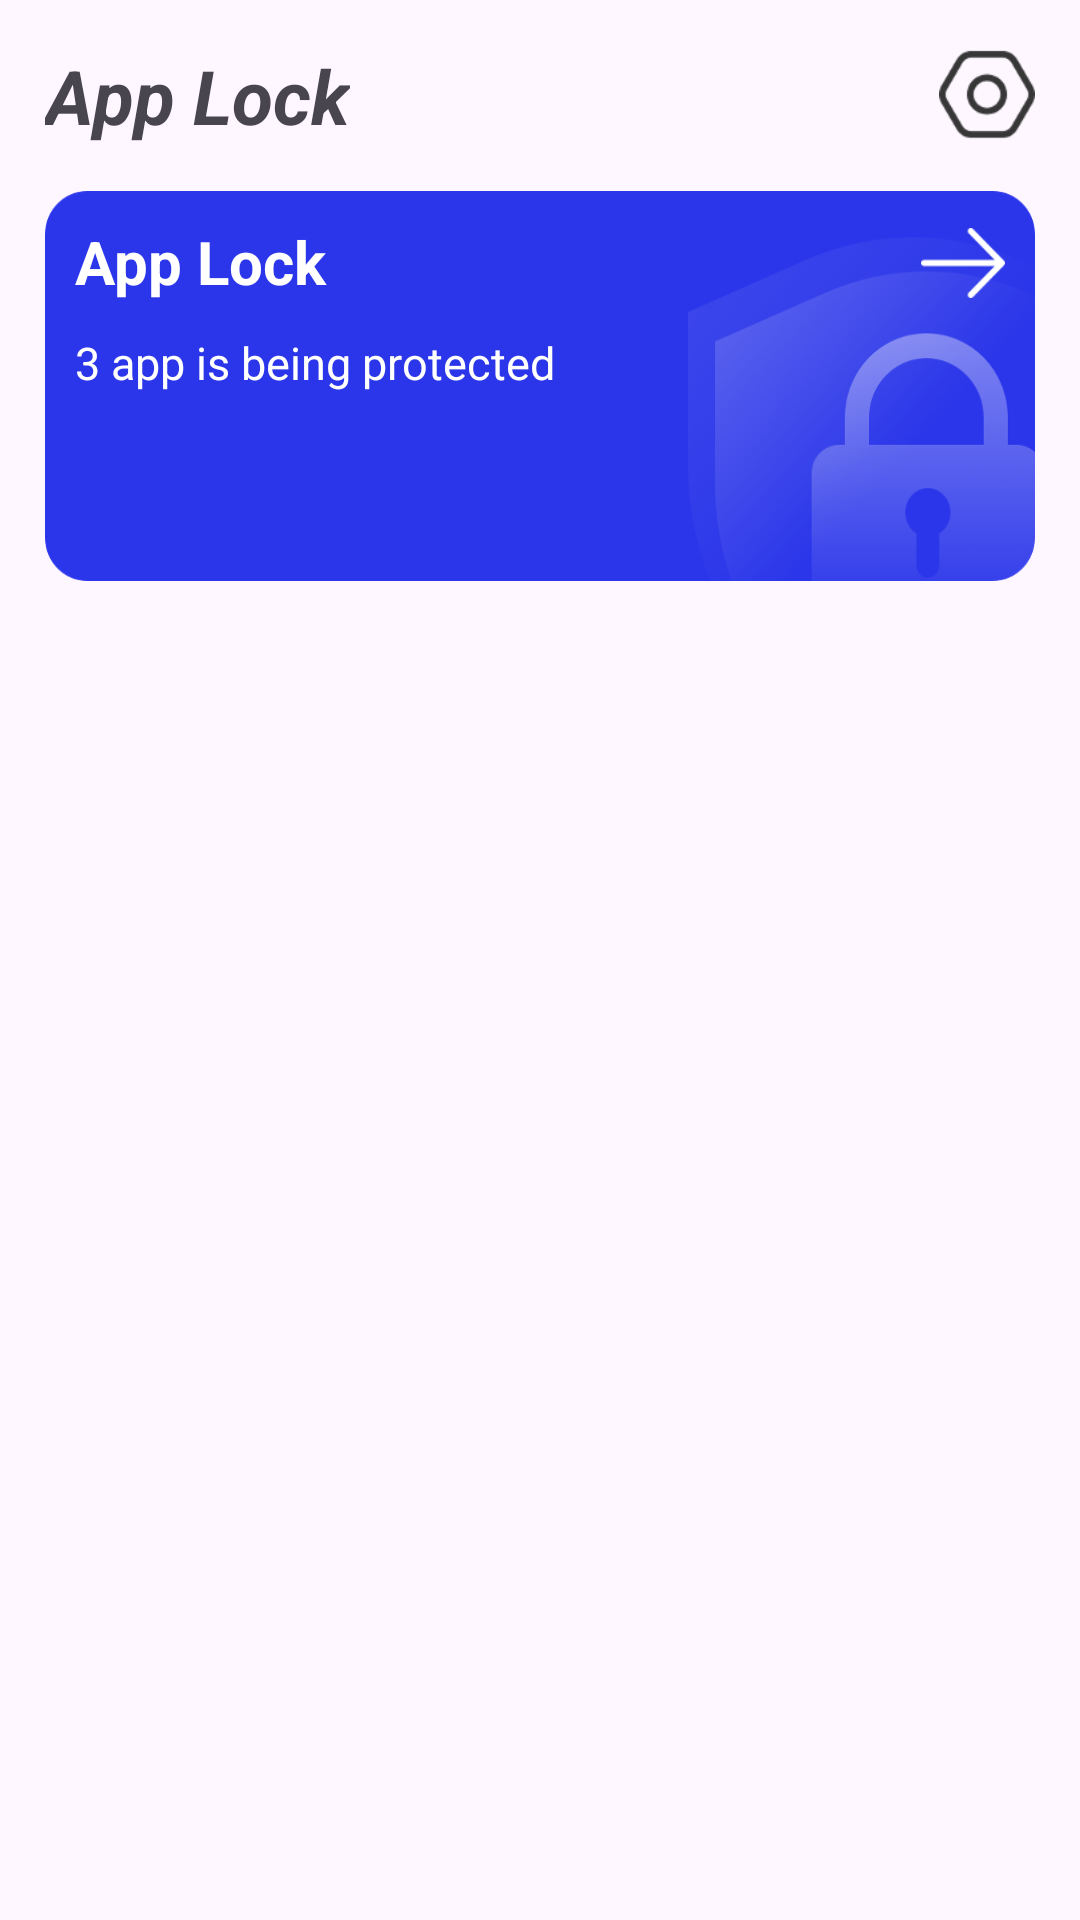

Icons on this 1080px x 1920px Android screen, each with its box as bbox=(x1, y1, x2, y2):
settings: bbox=(939, 50, 1035, 138)
